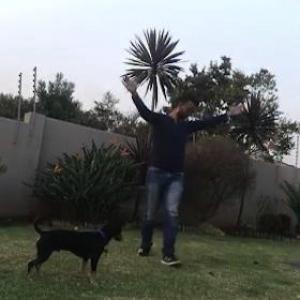takeoff: (126, 66, 264, 248)
